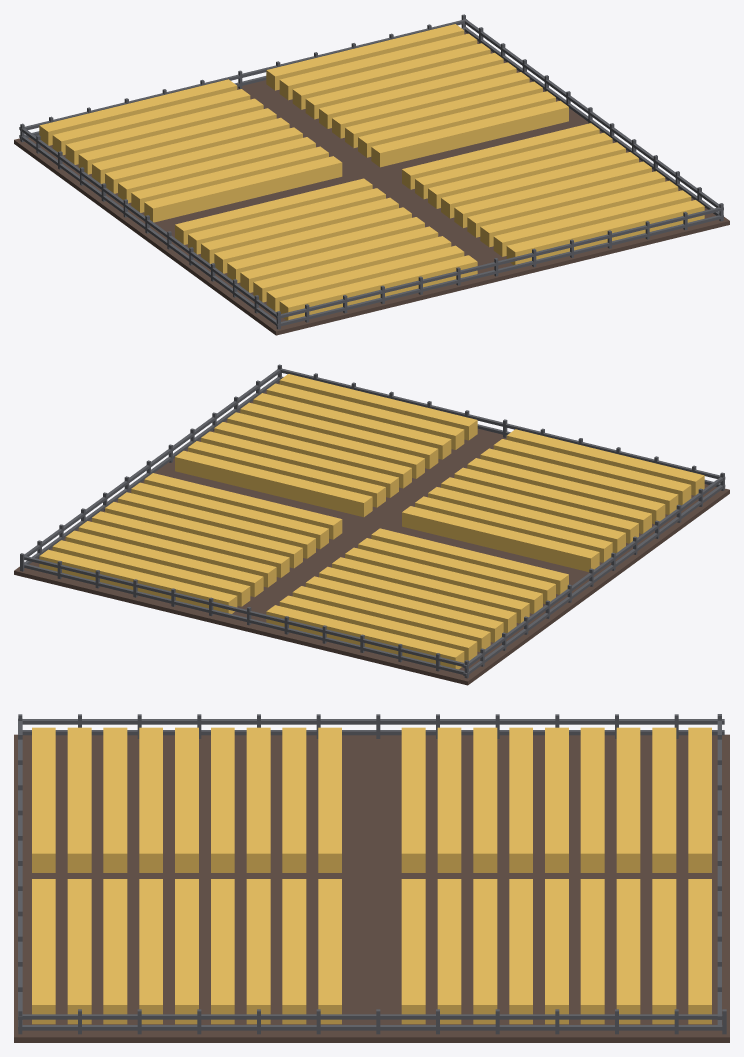
Rendered from Farmfield.fbx.
3 views of the same model, one above another, from view 1: azimuth 30°, elevation 25°; view 2: azimuth 150°, elevation 25°; view 3: azimuth 270°, elevation 25° (orthographic). The views are drawn at different scales.
Visible parts, largest first — view 1: Ground.001, Plant.018, Plant.045, Plant.009, Plant.036, Plant.012, Plant.010, Plant.024, Plant.025, Plant.026, Plant.011, Plant.023 (+25 smaller); view 2: Ground.001, Plant.017, Plant.044, Plant.053, Plant.026, Plant.023, Plant.010, Plant.025, Plant.009, Plant.012, Plant.011, Plant.018 (+25 smaller); view 3: Ground.001, Plant.037, Plant.038, Plant.042, Plant.043, Plant.045, Plant.047, Plant.050, Plant.052, Plant.046, Plant.051, Plant.011 (+25 smaller).
Boxes of the visible parts, <box> form: Ground.001: <box>14,32,729,335</box>; Plant.018: <box>371,100,568,167</box>; Plant.045: <box>144,156,342,222</box>; Plant.009: <box>506,200,704,265</box>; Plant.036: <box>279,255,477,320</box>; Plant.012: <box>467,171,665,237</box>; Plant.010: <box>493,190,691,256</box>; Plant.024: <box>292,43,490,109</box>; Plant.025: <box>279,33,477,100</box>; Plant.026: <box>266,24,464,90</box>; Plant.011: <box>480,180,678,247</box>; Plant.023: <box>305,52,503,119</box>; Ground.001: <box>14,382,729,685</box>; Plant.017: <box>175,450,372,517</box>; Plant.044: <box>402,506,599,571</box>; Plant.053: <box>266,605,464,669</box>; Plant.026: <box>39,549,237,613</box>; Plant.023: <box>78,521,276,587</box>; Plant.010: <box>266,383,464,449</box>; Plant.025: <box>52,540,250,606</box>; Plant.009: <box>279,374,477,440</box>; Plant.012: <box>240,402,438,469</box>; Plant.011: <box>253,393,451,459</box>; Plant.018: <box>144,473,342,539</box>; Ground.001: <box>14,734,729,1042</box>; Plant.037: <box>67,727,91,872</box>; Plant.038: <box>103,727,127,872</box>; Plant.042: <box>246,727,270,872</box>; Plant.043: <box>282,727,306,872</box>; Plant.045: <box>401,727,425,872</box>; Plant.047: <box>473,727,497,872</box>; Plant.050: <box>580,727,604,872</box>; Plant.052: <box>652,727,676,872</box>; Plant.046: <box>437,727,461,872</box>; Plant.051: <box>616,727,640,872</box>; Plant.011: <box>103,879,127,1024</box>.
Bounding box in the file's own units: 1200 × 52.54 × 1200.
Materials: 1 (1 with a texture image).
